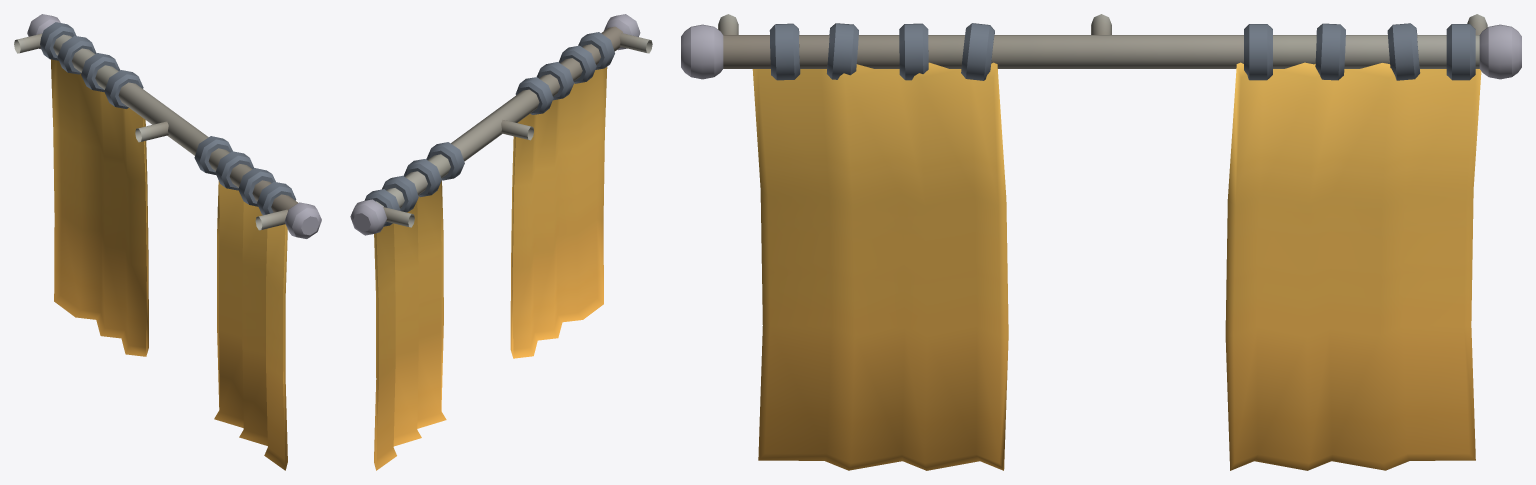
File: Curtains_Long_2_B_J.glb
3 renders of one model, left to right at view 1: azimuth 30°, elevation 25°; view 2: azimuth 150°, elevation 25°; view 3: azimuth 270°, elevation 25°, orthographic. The views are drawn at different scales.
Parts seen in each view (by area): view 1: Curtains_Long_2_B_J; view 2: Curtains_Long_2_B_J; view 3: Curtains_Long_2_B_J.
Part boxes in pixels (x1,y1,x2,y2): Curtains_Long_2_B_J: (14, 14, 321, 470); Curtains_Long_2_B_J: (350, 14, 652, 470); Curtains_Long_2_B_J: (681, 14, 1521, 470).
Bounding box in the file's own units: 0.2288 × 1.16 × 2.02.
2 materials, 2 textured.
